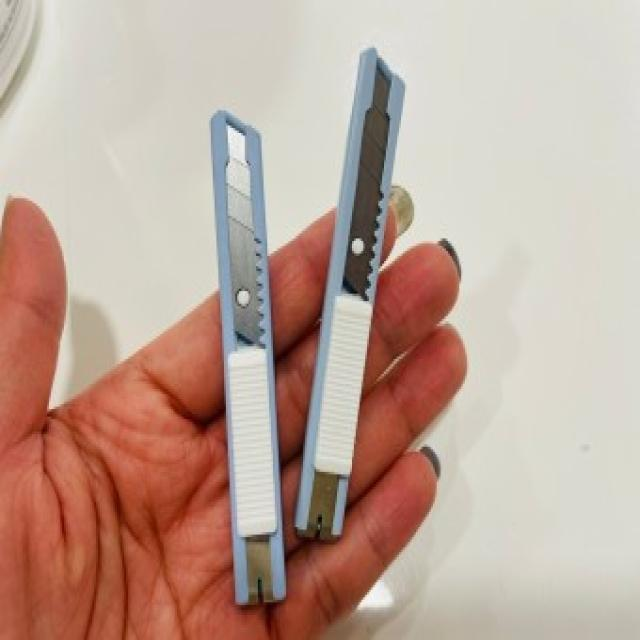cutter: (288, 38, 421, 546), (206, 96, 296, 608)
